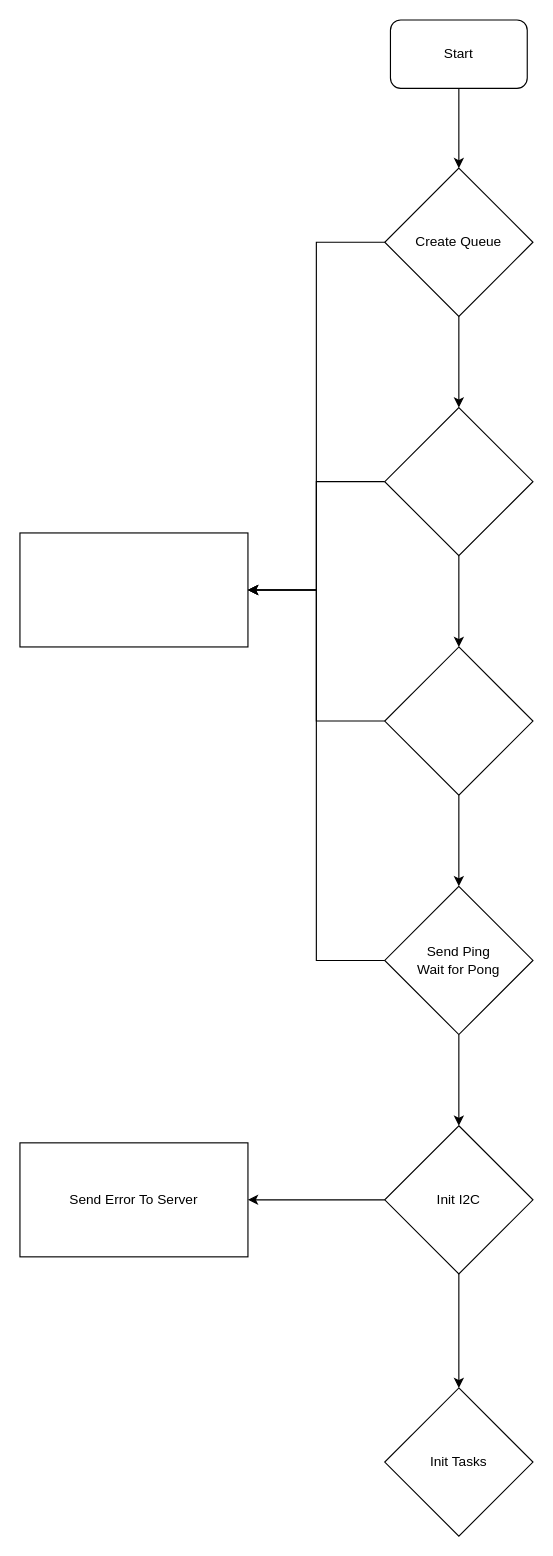
The diagram is 553 pixels wide and 1556 high, and some of its shapes have lost their labels. Each missing label, with the centre of its shape:
"Error and reboot" belongs at (x=133, y=589).
"Initialize Wi-Fi & NVS" belongs at (x=458, y=481).
"Wait For WiFi Initialize SNTP" belongs at (x=458, y=720).
